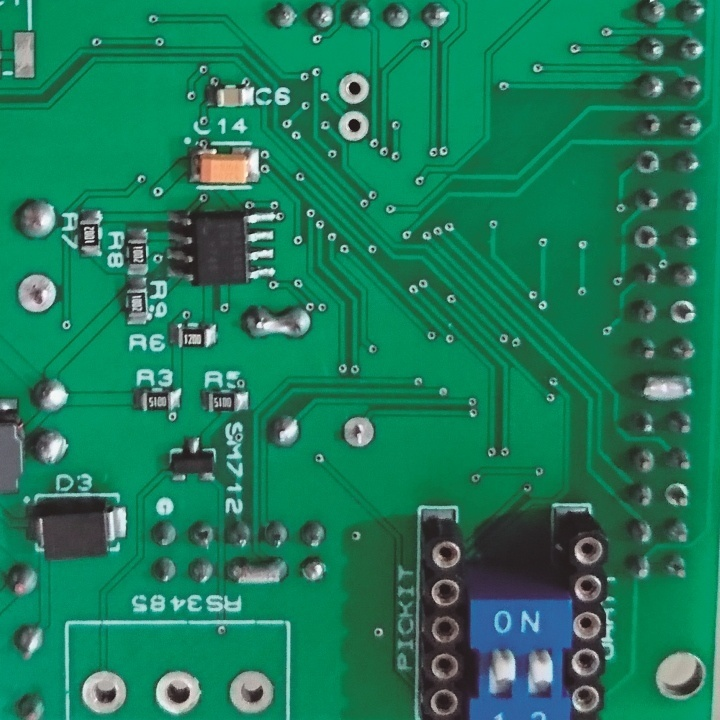F: (78, 667, 130, 717), (152, 668, 204, 718), (226, 667, 278, 717), (14, 269, 63, 316), (339, 413, 380, 453), (335, 66, 371, 107), (664, 480, 696, 512), (339, 112, 370, 144), (672, 298, 699, 326), (636, 149, 661, 178), (635, 224, 660, 252)
P: (238, 303, 313, 342), (632, 372, 701, 406), (225, 558, 294, 589)
